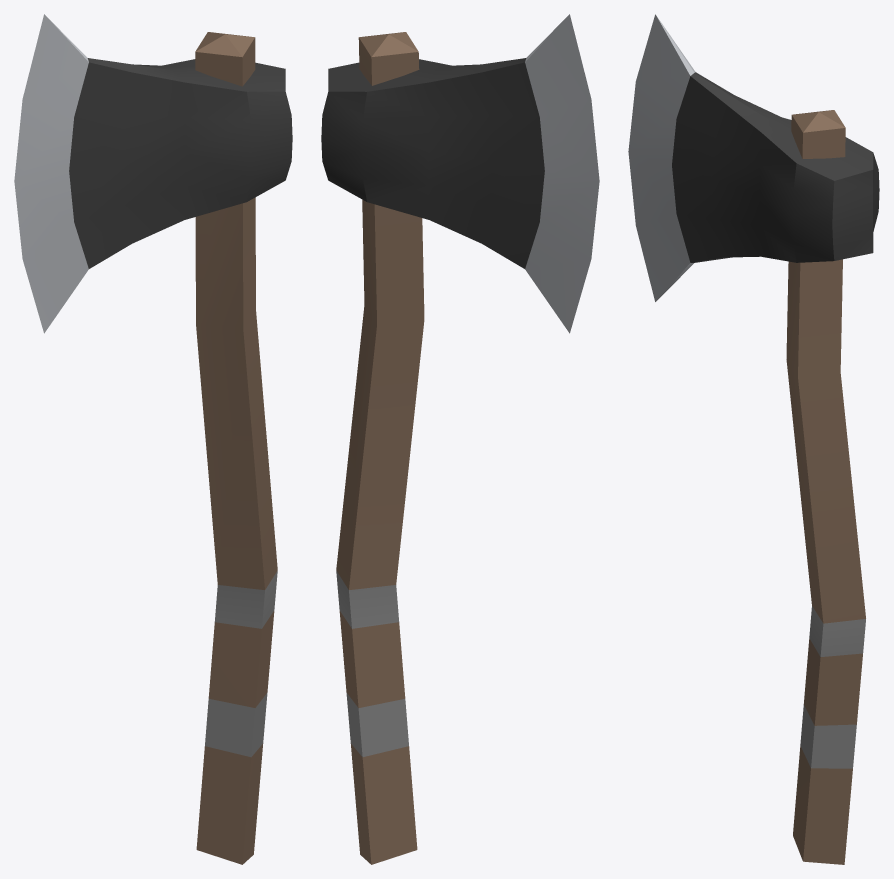
The model's file is Axe_6.fbx.
3 renders of one model, left to right at view 1: azimuth 30°, elevation 25°; view 2: azimuth 150°, elevation 25°; view 3: azimuth 330°, elevation 25°, orthographic. The views are drawn at different scales.
Parts seen in each view (by area): view 1: polySurface197; view 2: polySurface197; view 3: polySurface197.
Part boxes in pixels (x1,y1,x2,y2): polySurface197: (14,14,292,864); polySurface197: (321,14,599,864); polySurface197: (628,14,879,864).
Bounding box in the file's own units: 63.24 × 199 × 21.68.
